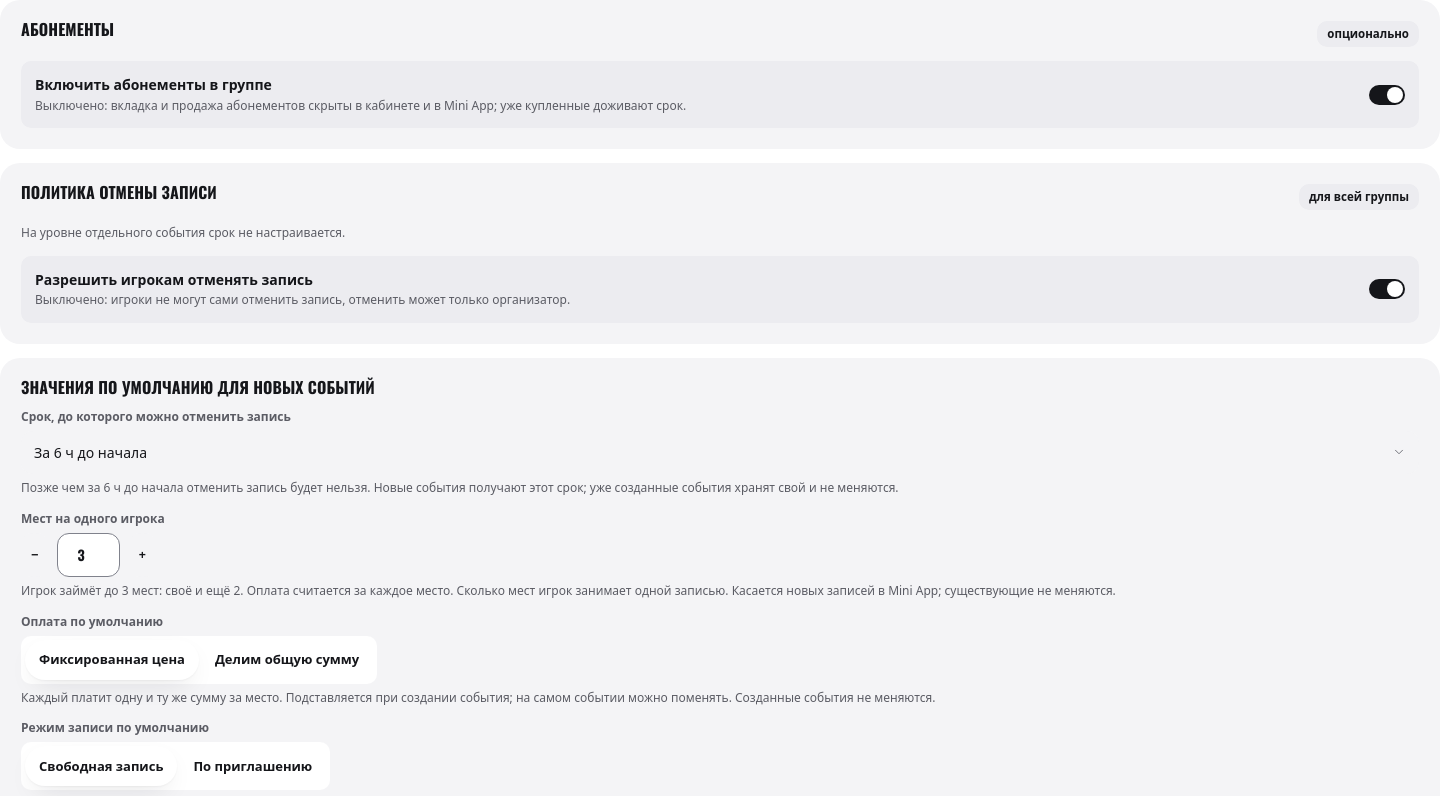
Test: SettingsBookings › cancel drops the unsaved draft
This screenshot has width=1440, height=796.
What coordinates should you click on to do the following:
click the button named "Больше мест"
I would click on:
 (142, 555)
Its box is [129,533,156,577].
(page scrolled)
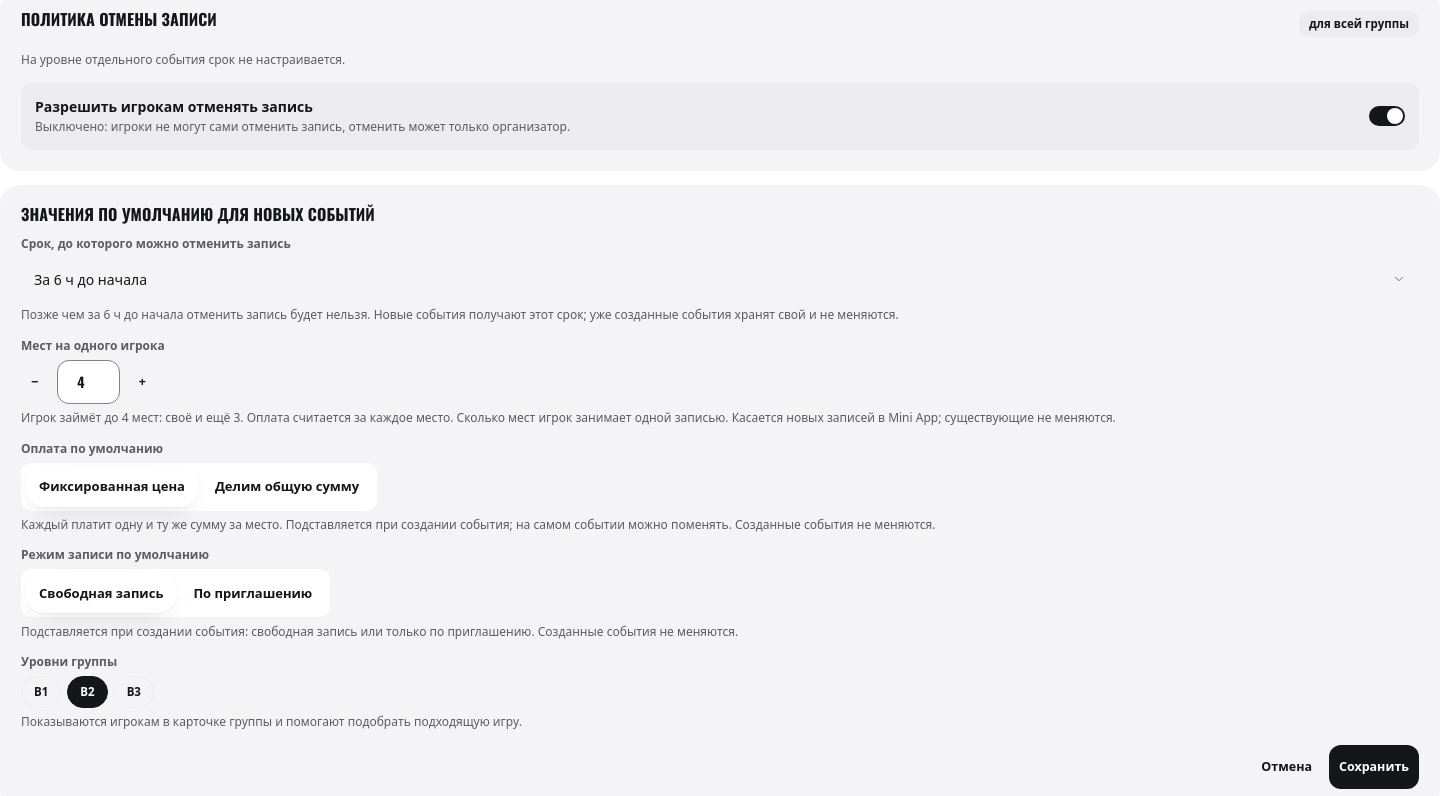
What coordinates should you click on to do the following:
click the button "Отмена"
I would click on:
 (1287, 767)
Its box is [1251,745,1322,789].
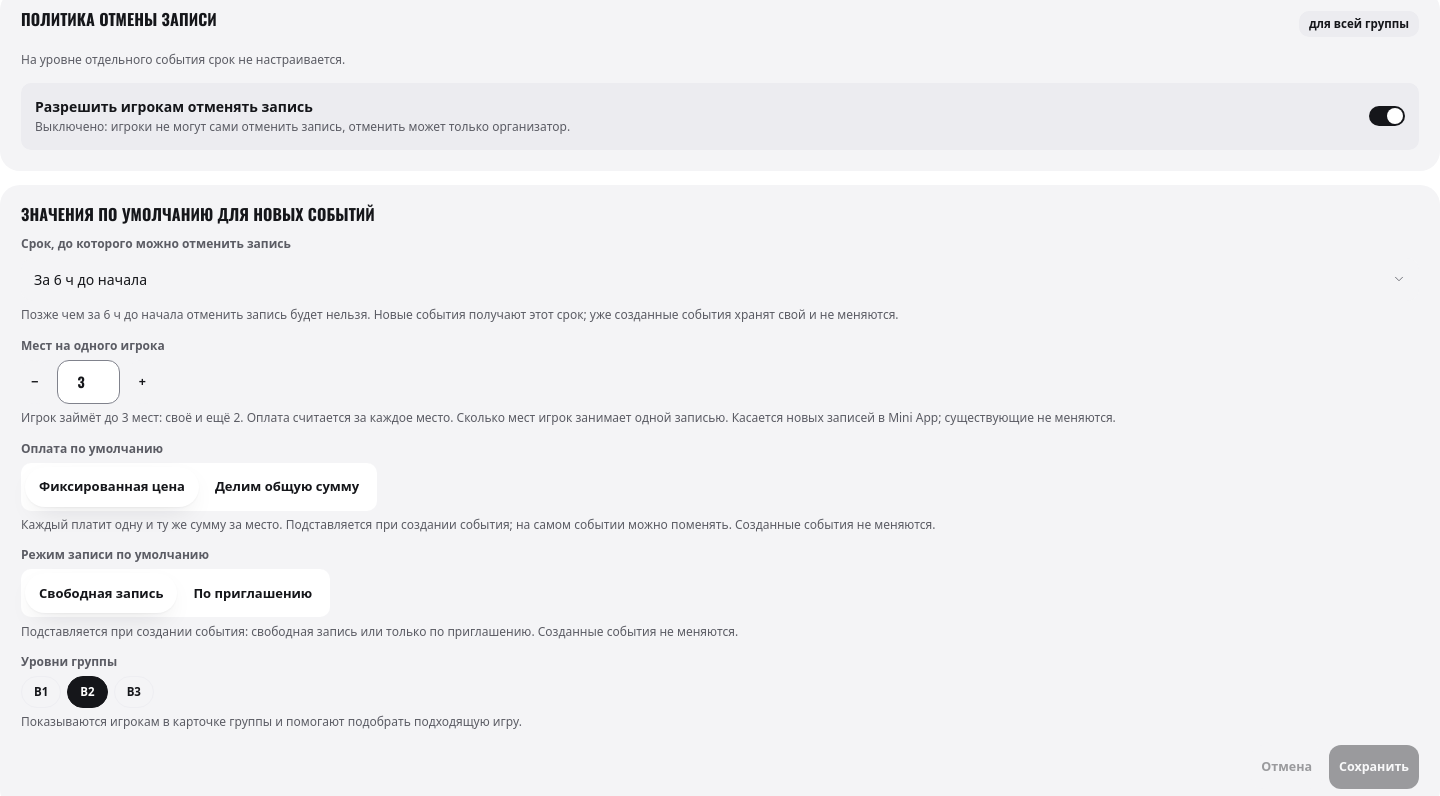
Now the number field labelled "Мест на одного игрока" holds "3", box [57,360,120,404]
Now the submit button is disabled, box [1329,745,1419,789]
